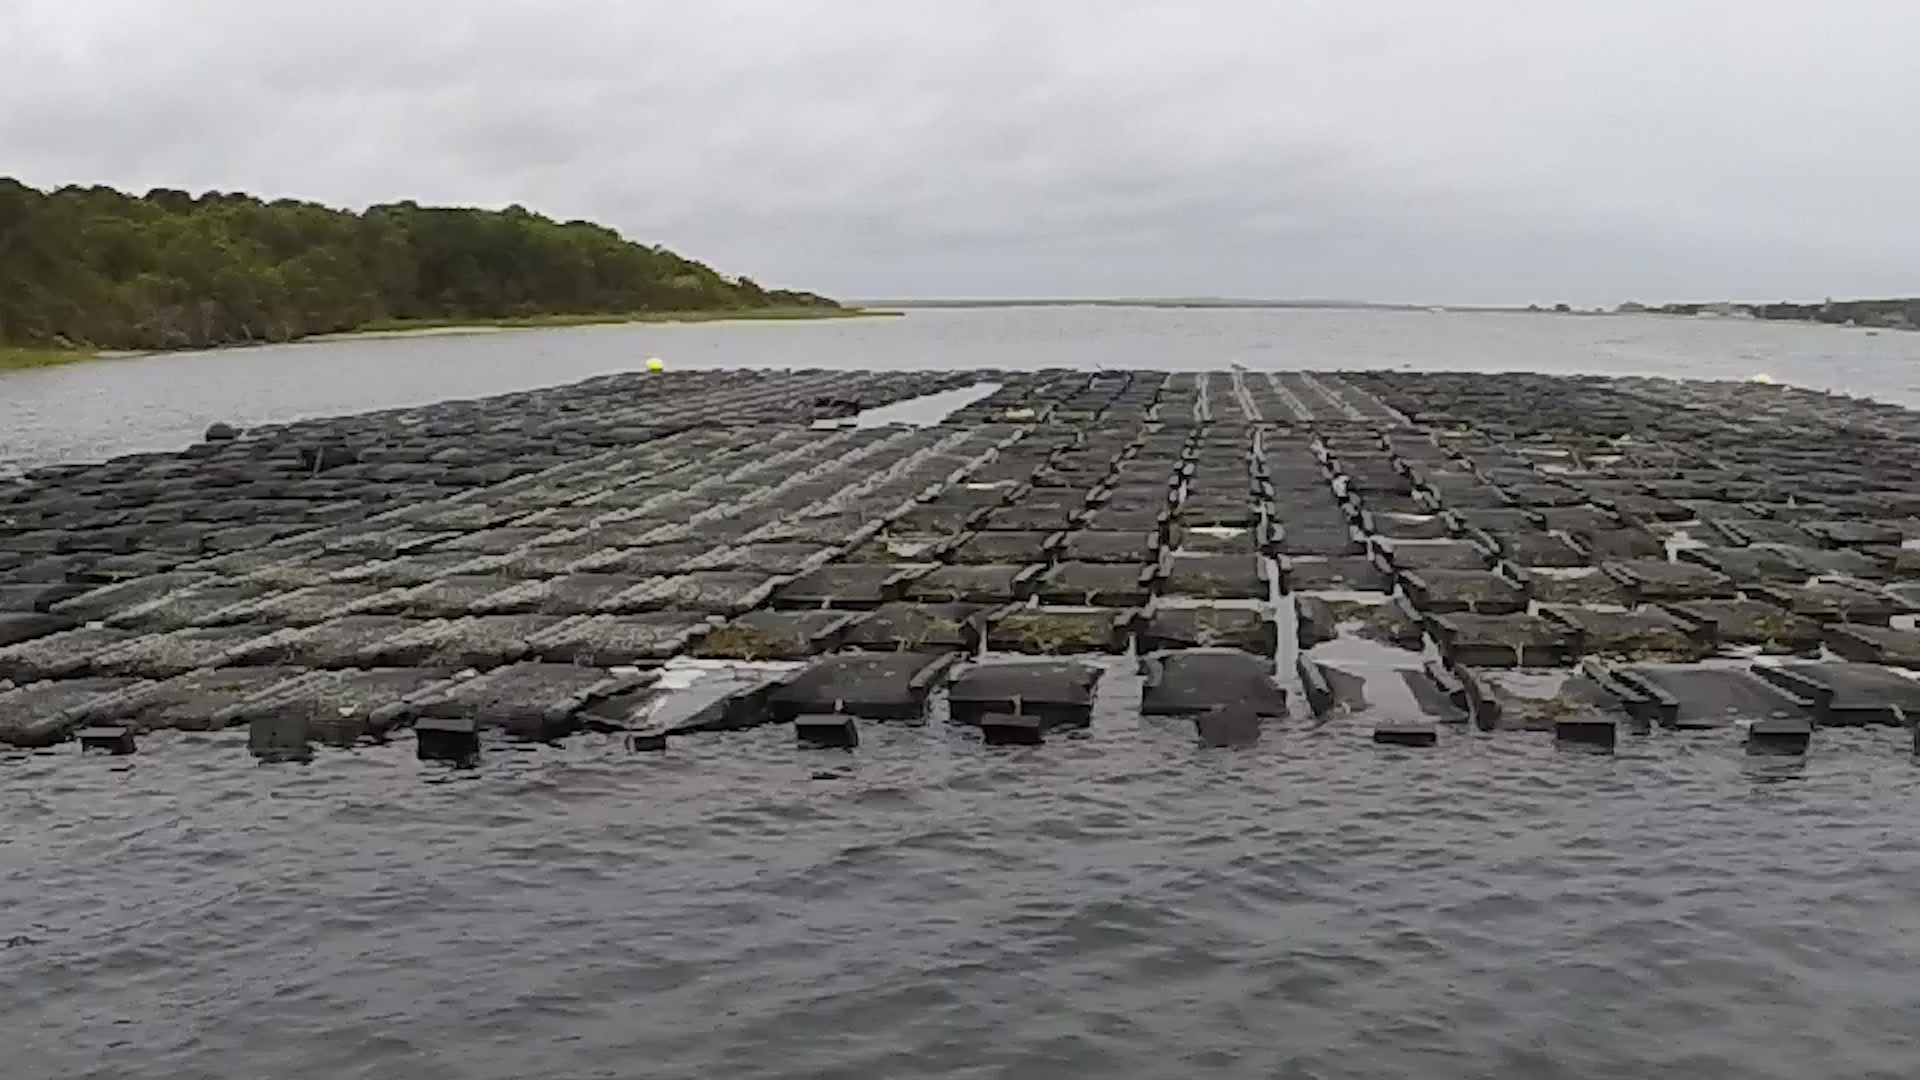bag: (409, 655, 640, 742), (764, 646, 952, 713), (938, 658, 1113, 724), (1134, 647, 1295, 713)
